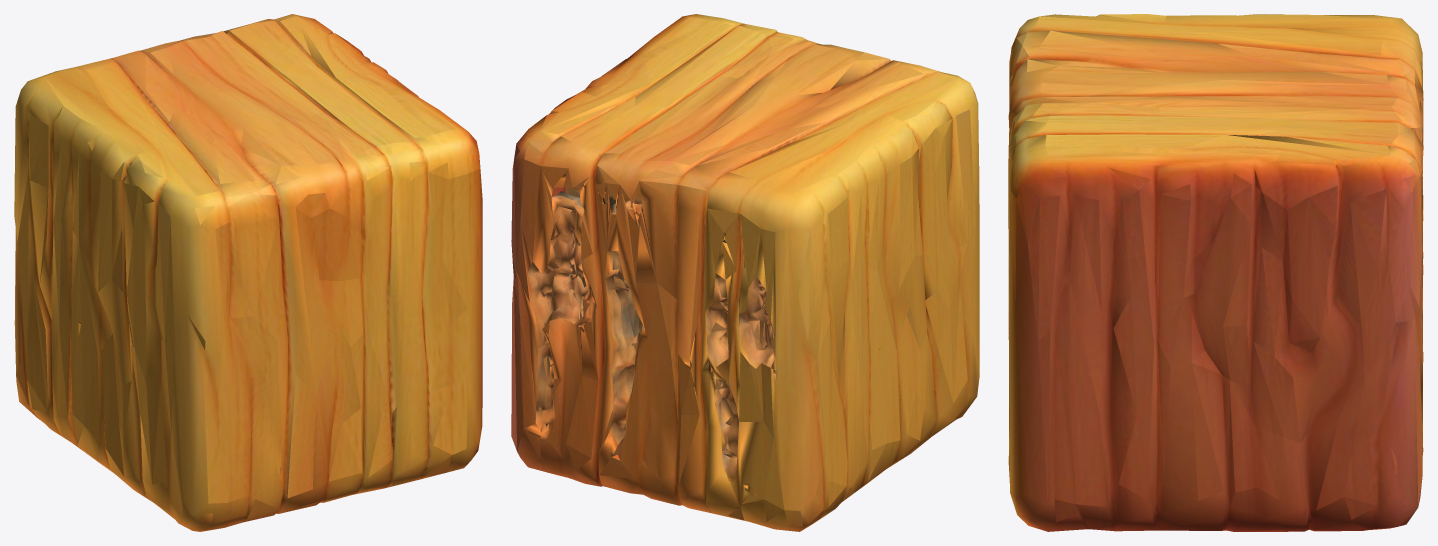
File: ahsap_kup_2.glb
3 views of the same model, side by side, from view 1: azimuth 30°, elevation 25°; view 2: azimuth 150°, elevation 25°; view 3: azimuth 270°, elevation 25° (orthographic). The views are drawn at different scales.
Visible parts, largest first — view 1: tripo_node_0109596a-2955-4882-a872-2ee54a883a45; view 2: tripo_node_0109596a-2955-4882-a872-2ee54a883a45; view 3: tripo_node_0109596a-2955-4882-a872-2ee54a883a45.
Part boxes in pixels (bbox=[...]): tripo_node_0109596a-2955-4882-a872-2ee54a883a45: bbox=[14, 14, 482, 531]; tripo_node_0109596a-2955-4882-a872-2ee54a883a45: bbox=[511, 14, 979, 531]; tripo_node_0109596a-2955-4882-a872-2ee54a883a45: bbox=[1008, 14, 1423, 531].
Size of the model in its own units: 0.9183 by 0.9794 by 0.9764.
1 material, 1 textured.
